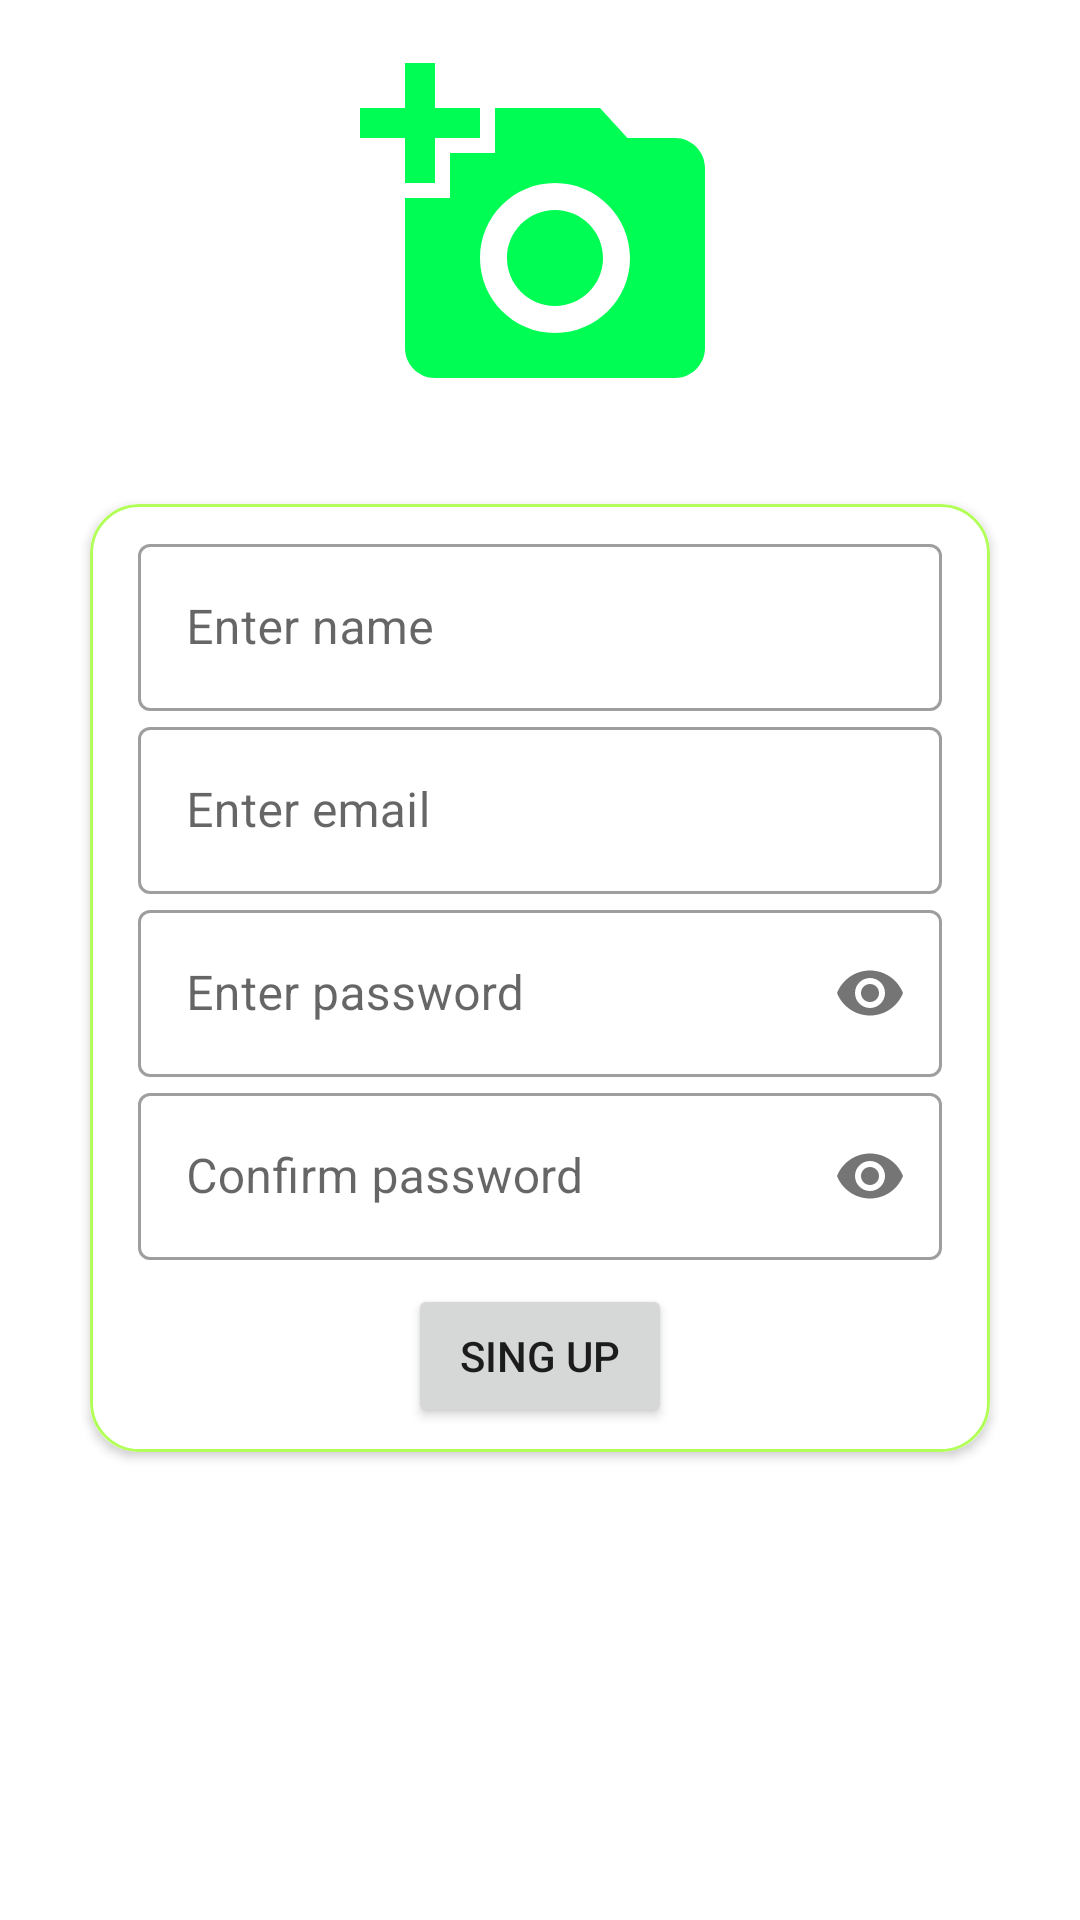

Named icons in this screenshot (1080 x 1920) and their centers, (x,y):
add photo: (532,220)
